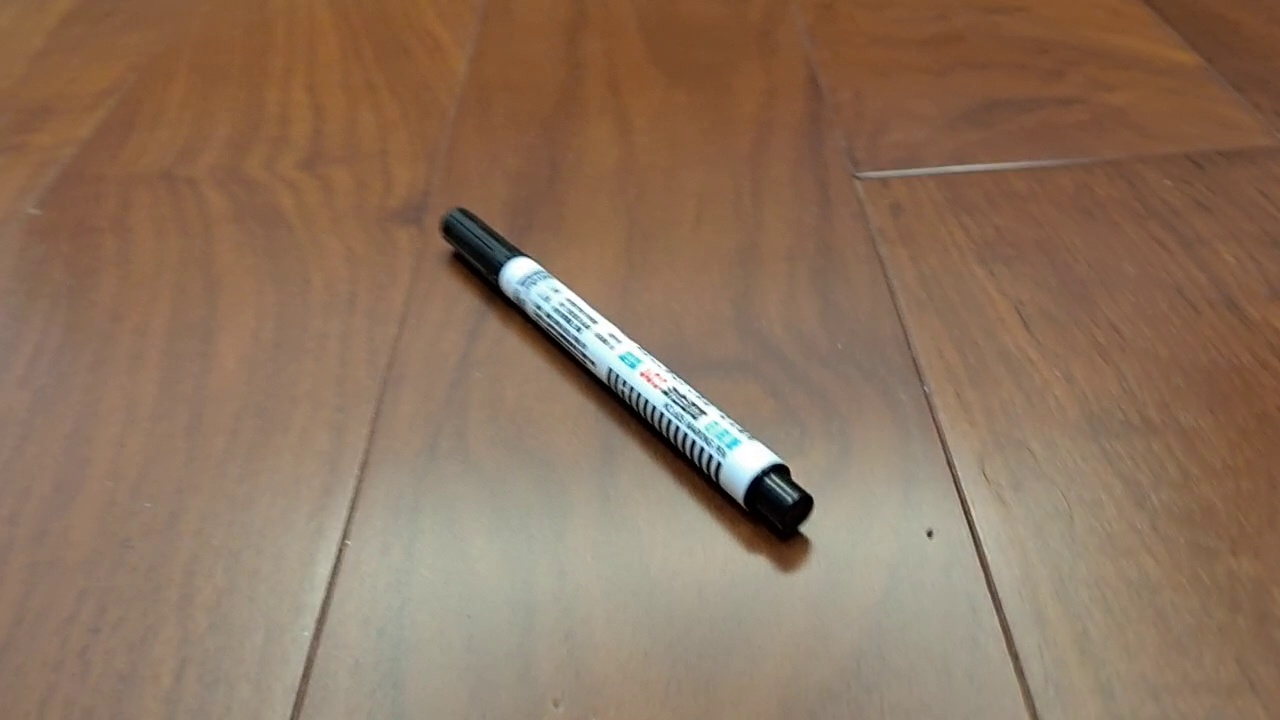pen: (439, 205, 814, 530)
